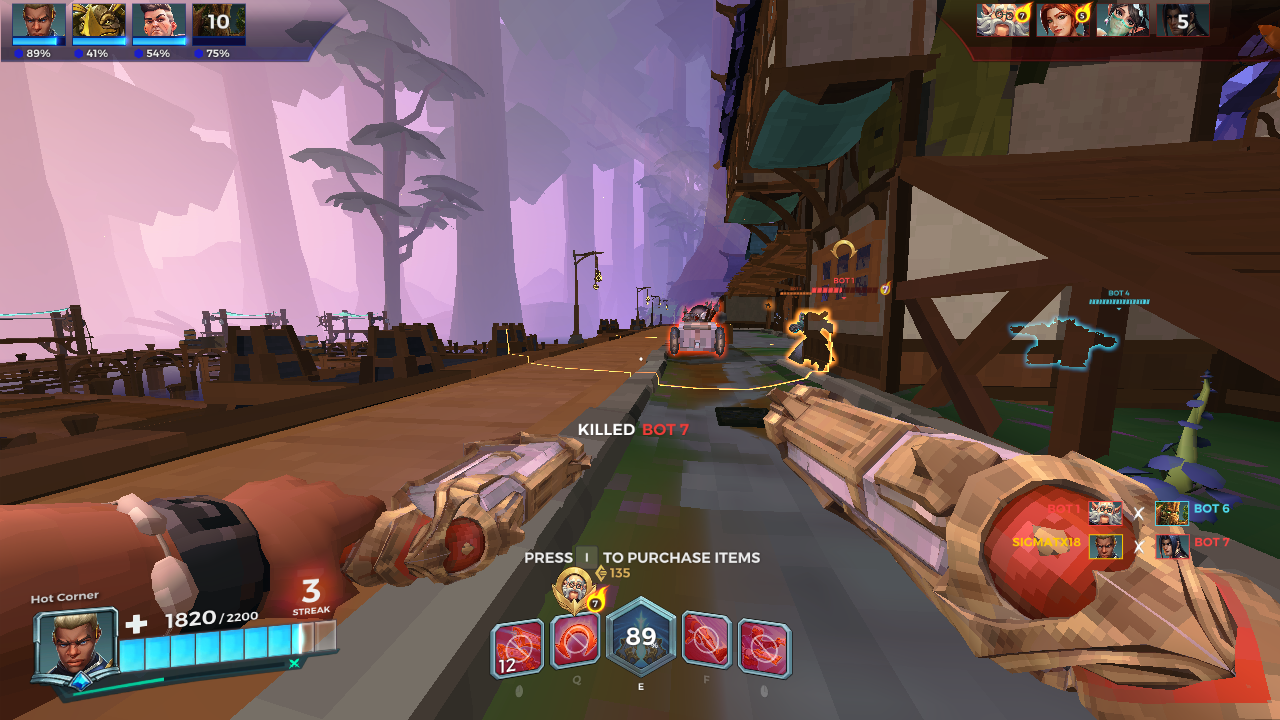model: (788, 303, 838, 378)
